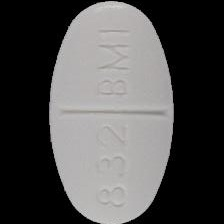0832-1081: (0, 0, 224, 224)
